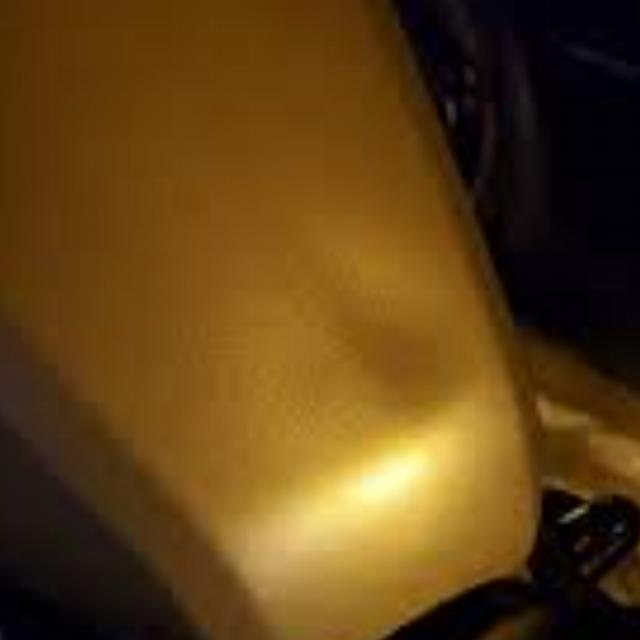dents: (316, 267, 480, 449)
